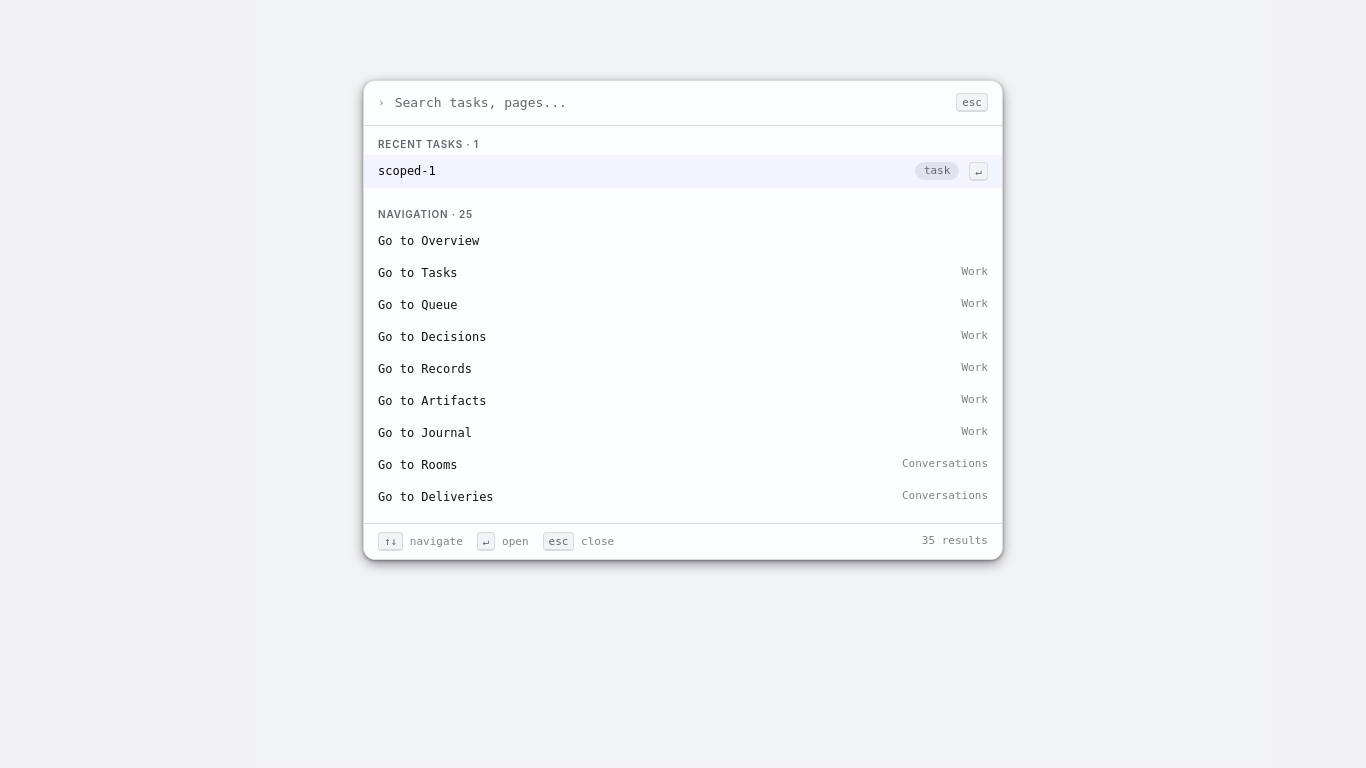
Test: CommandPalette › works for a namespace-restricted credential without compact listing
Expected: the text "scoped-1" is shown, left=378, top=164, right=436, bottom=178
Type "deploy" into the dropdown.
click(670, 103); type("deploy")  # box left=395, top=93, right=946, bottom=112
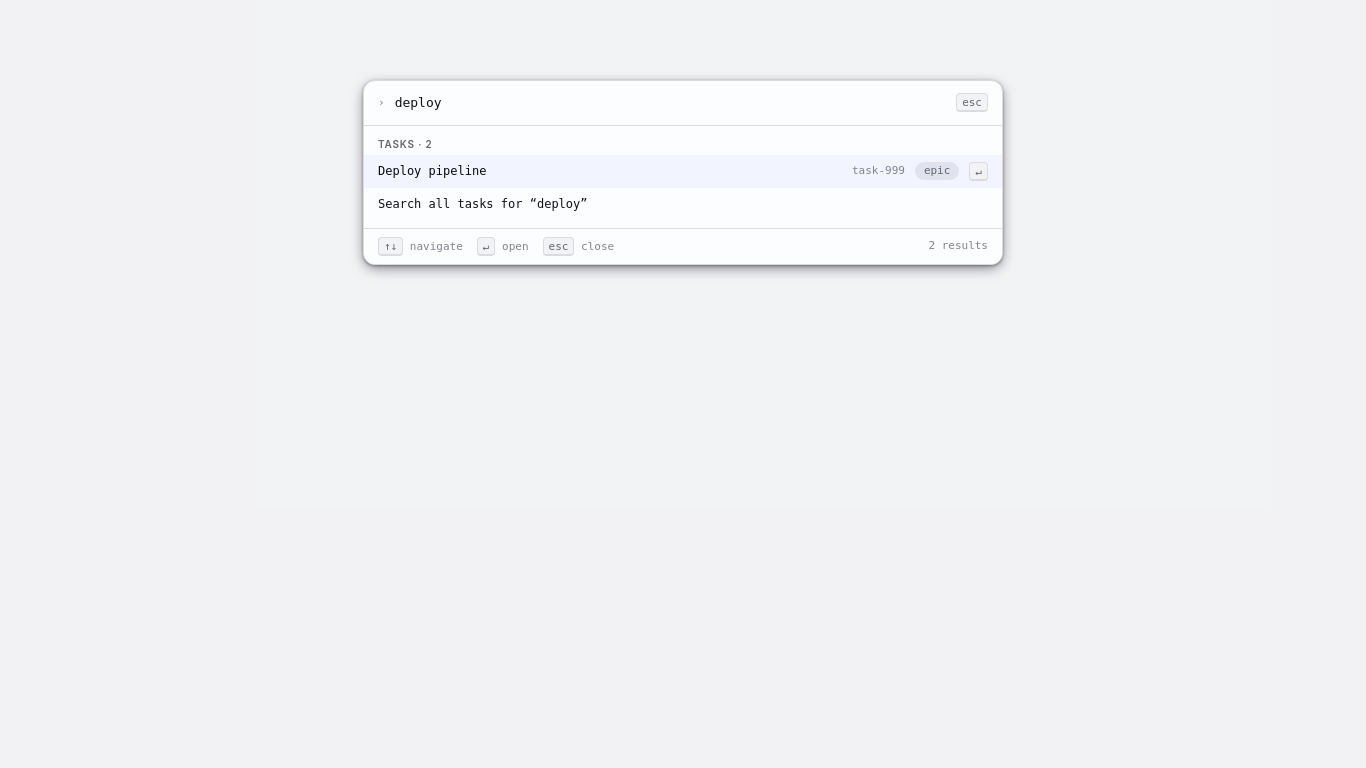
Expected: the text "Deploy pipeline" is shown, left=378, top=164, right=486, bottom=178
